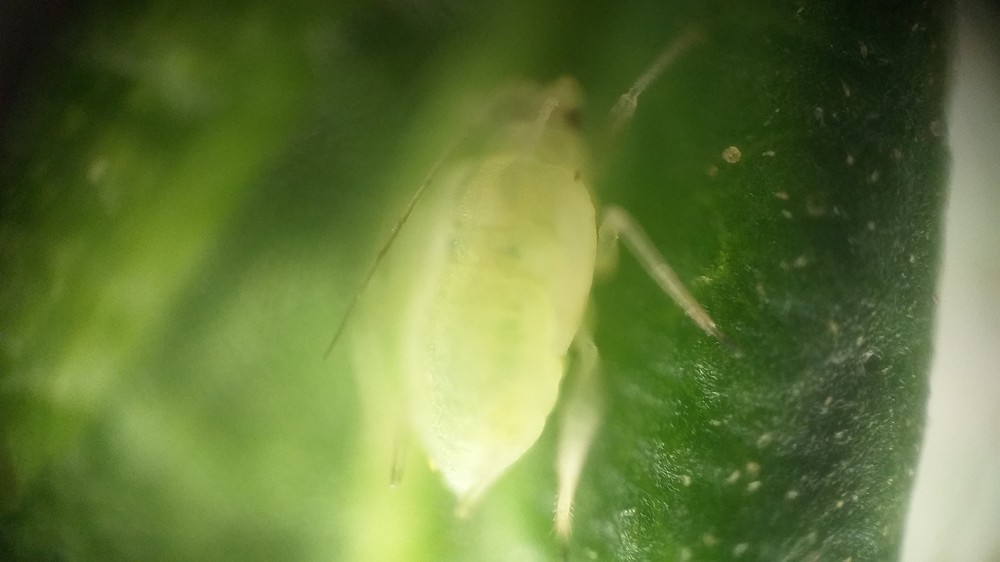Pulgon: (315, 33, 764, 556)
